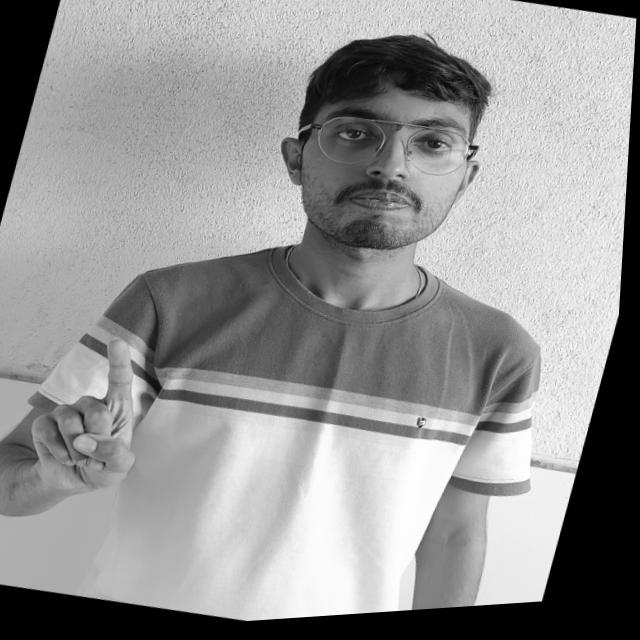Question: (0, 303, 209, 530)
